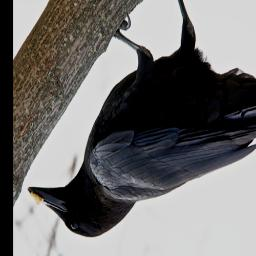Crow: (27, 0, 256, 238)
